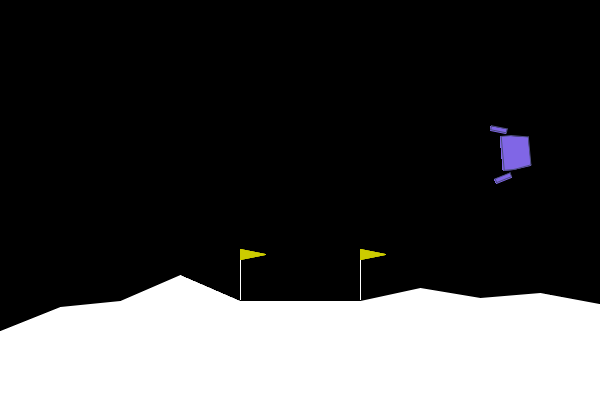lander: (489, 121, 534, 185)
